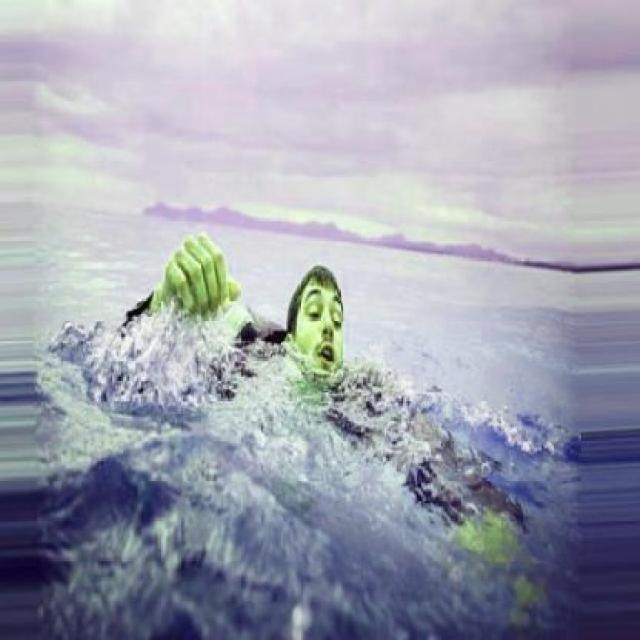drowning: (85, 150, 560, 624)
